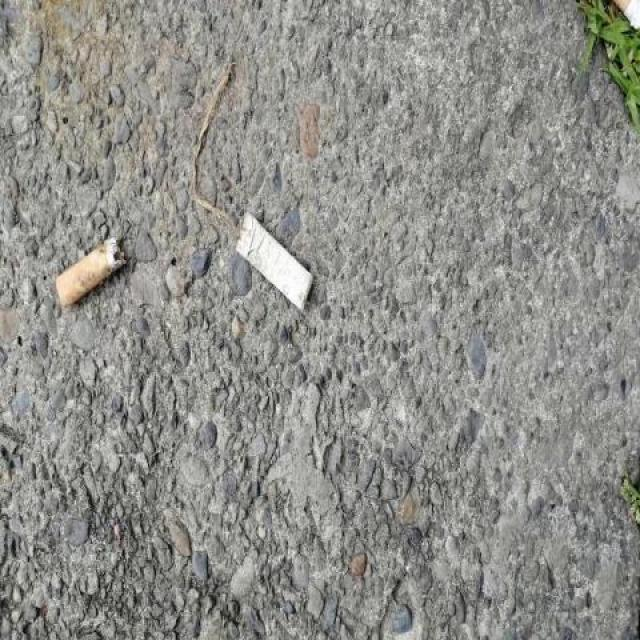non-organic waste: (231, 207, 313, 312), (51, 233, 137, 311)
